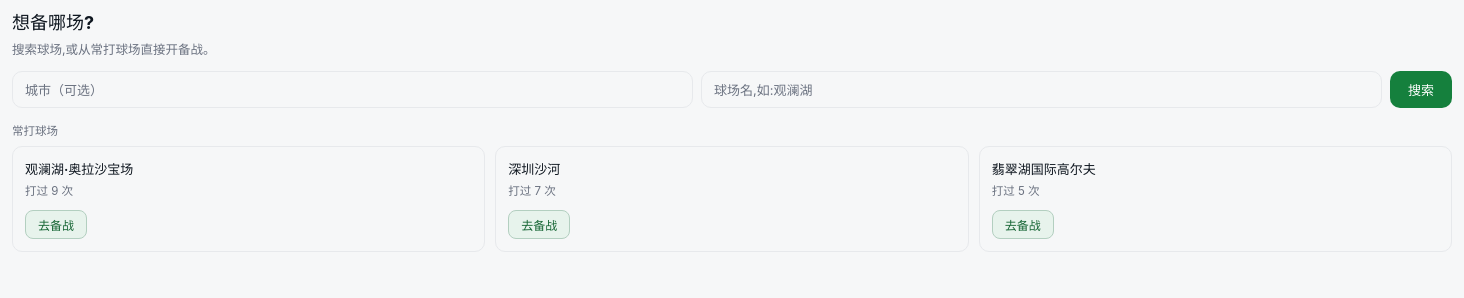
Test: CourseFinder › shows 没有找到球场 when the search returns no matches
The image size is (1464, 298).
Type "不存在" into the field named "搜索球场". click: (1042, 90)
box: [701,71,1382,108]
Then press Enter
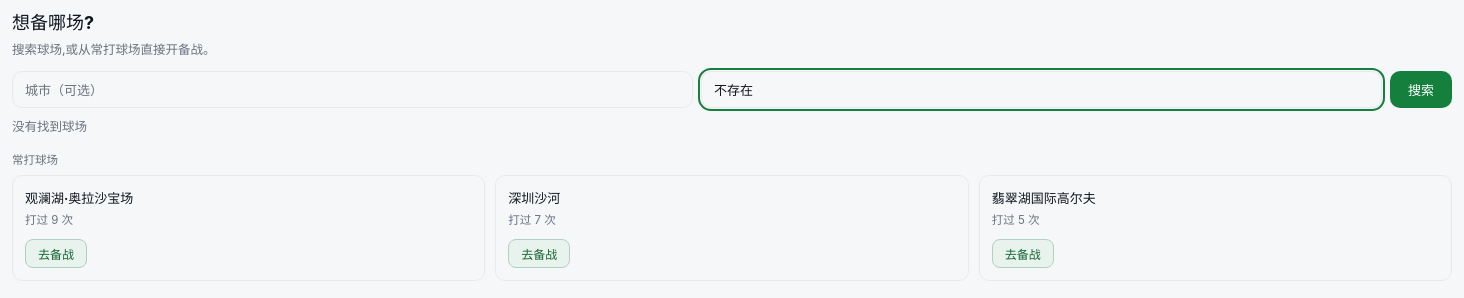
Expected: the text "没有找到球场" is shown, [12,119,87,134]
